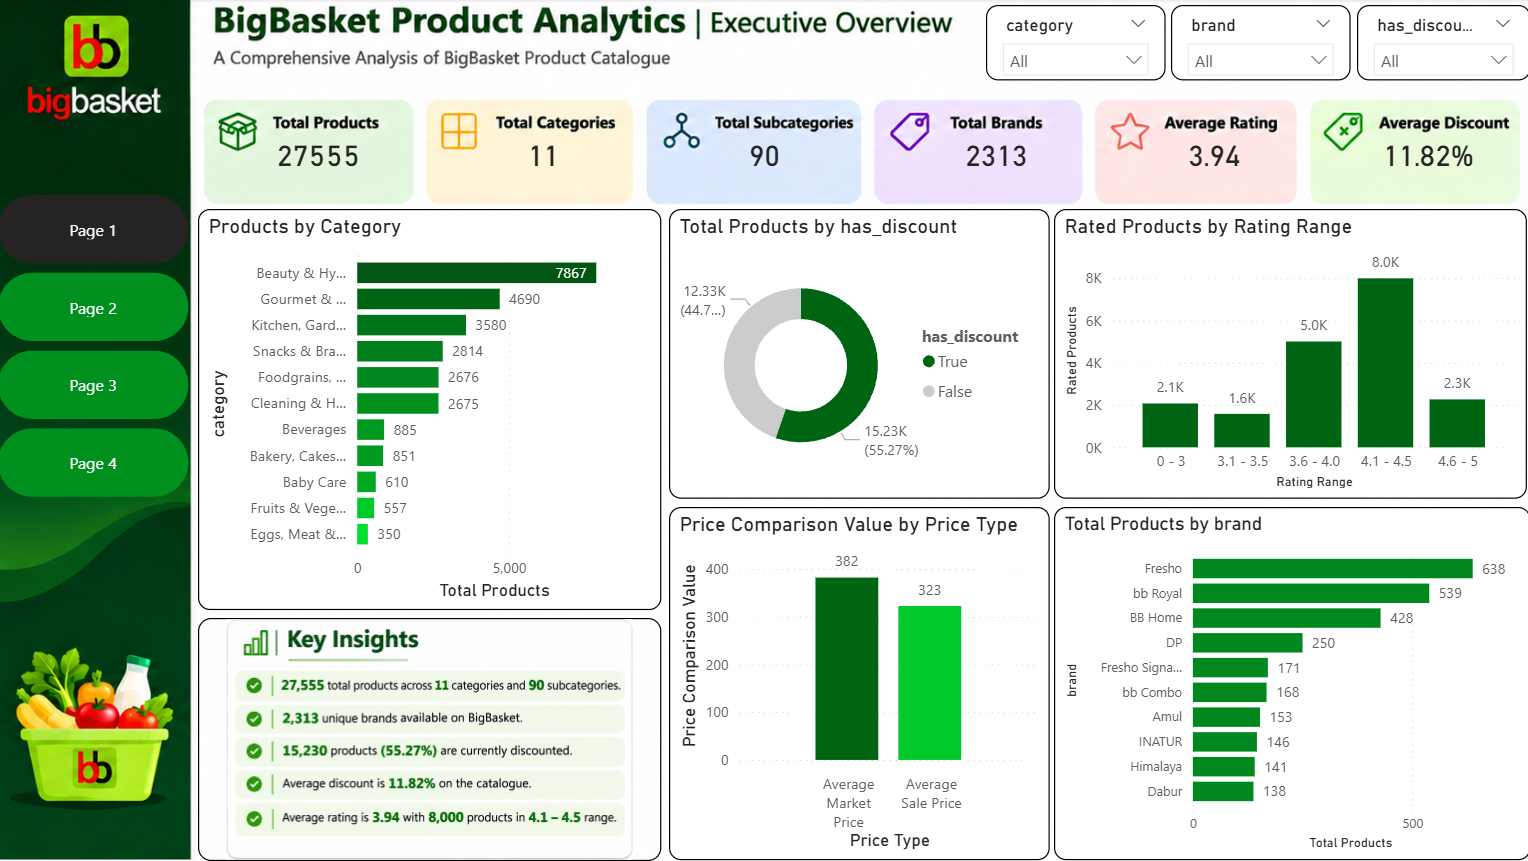

The dashboard page shown, as its layout file describes it:
{"tool":"powerbi","page":{"name":"Page 1","canvas":[1280,720],"ordinal":0},"visuals":[{"type":"card","fields":{"Values":["DAX_Measures.Total Products"]},"box":[208.3,104.7,119.2,50.8],"z":0},{"type":"card","fields":{"Values":["DAX_Measures.Total Brands"]},"box":[774.2,104.7,119.2,50.8],"z":1000},{"type":"card","fields":{"Values":["DAX_Measures.Total Subcategories"]},"box":[580.4,104.7,119.2,50.8],"z":2000},{"type":"card","fields":{"Values":["DAX_Measures.Total Categories"]},"box":[395.9,104.7,119.2,50.8],"z":3000},{"type":"card","fields":{"Values":["DAX_Measures.Average Discount %"]},"box":[1134.9,104.7,119.2,50.8],"z":4000},{"type":"card","fields":{"Values":["DAX_Measures.Average Rating"]},"box":[956.6,104.7,119.2,50.8],"z":5000},{"type":"clusteredBarChart","title":"Products by Category","fields":{"Category":["Products.category"],"Y":["DAX_Measures.Total Products"]},"box":[166.7,175.6,386.6,335.2],"z":6000},{"type":"donutChart","fields":{"Category":["Products.has_discount"],"Y":["DAX_Measures.Total Products"]},"box":[560.4,175.6,318.3,242.1],"z":7000},{"type":"clusteredColumnChart","fields":{"Y":["DAX_Measures.Rated Products"],"Category":["Products.Rating Range"]},"box":[882.3,175.6,394.6,242.1],"z":8000},{"type":"clusteredColumnChart","fields":{"Category":["Price Comparison.Price Type"],"Y":["Price Comparison.Price Comparison Value"]},"box":[560.4,424.7,318.3,295.3],"z":9000},{"type":"clusteredBarChart","fields":{"Category":["Products.brand"],"Y":["DAX_Measures.Total Products"]},"box":[882.3,424.7,398.1,295.3],"z":10000},{"type":"image","box":[166.7,516.9,386.6,203.1],"z":11000},{"type":"slicer","fields":{"Values":["Products.category"]},"box":[825,5.2,150.3,63.2],"z":11001},{"type":"slicer","fields":{"Values":["Products.brand"]},"box":[979.4,5.2,150.3,63.2],"z":11002},{"type":"slicer","fields":{"Values":["Products.has_discount"]},"box":[1134.9,5.2,145.1,63.2],"z":11003},{"type":"pageNavigator","box":[0,163.8,159.6,253.9],"z":11004}]}

Visuals, with their boxes in screenshot pixels (x1, y1, x2, y2), scaled from the page's 1280x720 canvas onto the 1528x861 screenshot:
card - DAX_Measures.Total Products: bbox(249, 125, 391, 186)
card - DAX_Measures.Total Brands: bbox(924, 125, 1066, 186)
card - DAX_Measures.Total Subcategories: bbox(693, 125, 835, 186)
card - DAX_Measures.Total Categories: bbox(473, 125, 615, 186)
card - DAX_Measures.Average Discount %: bbox(1355, 125, 1497, 186)
card - DAX_Measures.Average Rating: bbox(1142, 125, 1284, 186)
"Products by Category" clusteredBarChart: bbox(199, 210, 661, 611)
donutChart - Products.has_discount x DAX_Measures.Total Products: bbox(669, 210, 1049, 499)
clusteredColumnChart - DAX_Measures.Rated Products x Products.Rating Range: bbox(1053, 210, 1524, 499)
clusteredColumnChart - Price Comparison.Price Type x Price Comparison.Price Comparison Value: bbox(669, 508, 1049, 860)
clusteredBarChart - Products.brand x DAX_Measures.Total Products: bbox(1053, 508, 1527, 860)
image: bbox(199, 618, 661, 860)
slicer - Products.category: bbox(985, 6, 1164, 82)
slicer - Products.brand: bbox(1169, 6, 1349, 82)
slicer - Products.has_discount: bbox(1355, 6, 1527, 82)
pageNavigator: bbox(0, 196, 191, 499)
